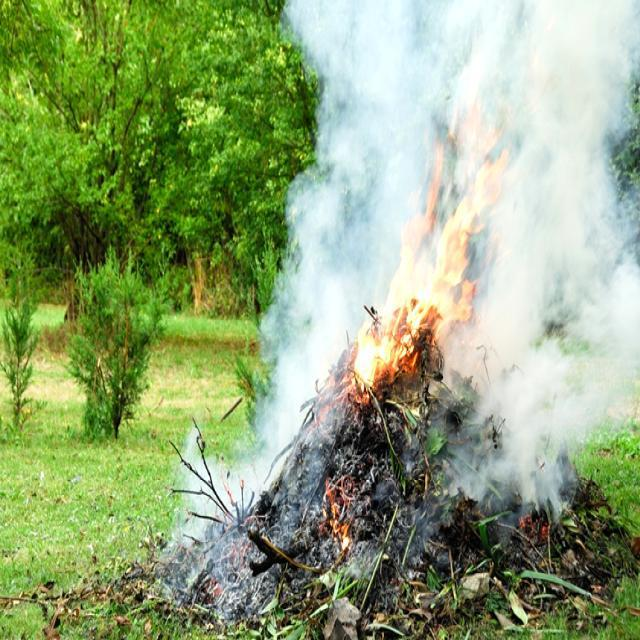Fire: (356, 157, 496, 401)
Smoke: (248, 0, 632, 521), (163, 424, 269, 624)
